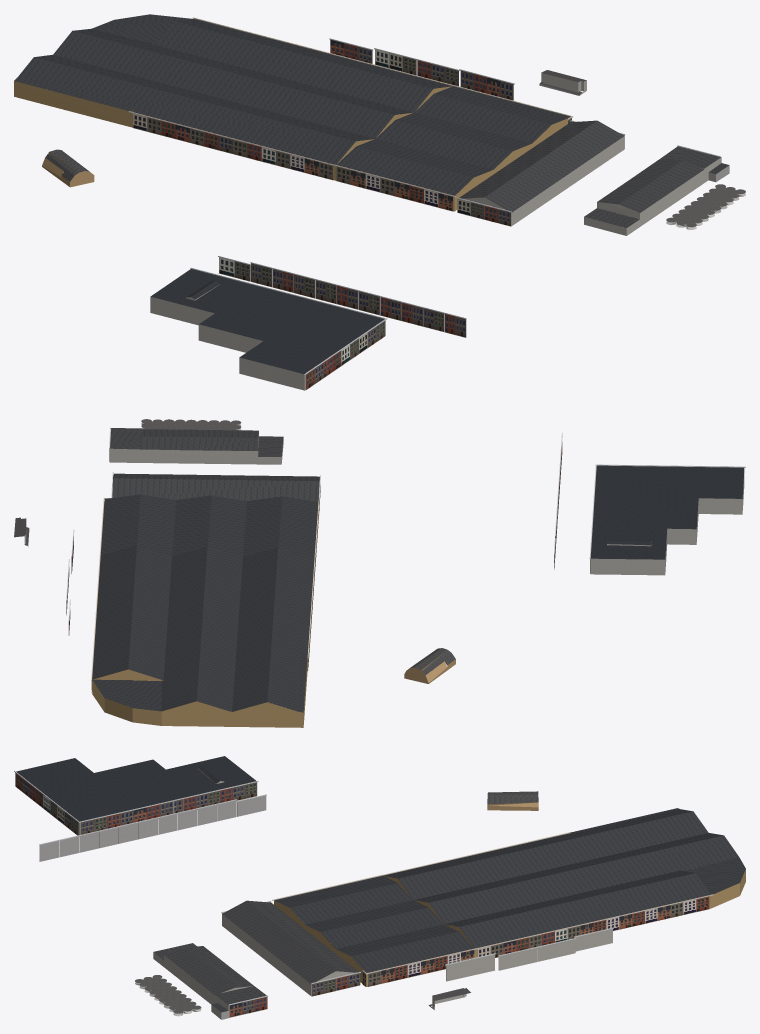
3 views of the same model, one above another, from view 1: azimuth 30°, elevation 25°; view 2: azimuth 150°, elevation 25°; view 3: azimuth 270°, elevation 25° (orthographic). The views are drawn at different scales.
Parts seen in each view (by area): view 1: bldg_6004321755_roof, bldg_6004581095_roof, bldg_6004321766_roof, bldg_6006778689_roof, bldg_6004321755, bldg_6004321755_facade1, bldg_6004581095, bldg_6004321755_facade0, bldg_6006778689, bldg_6004321766, bldg_6004581095_facade3, bldg_6000073201_roof (+5 smaller); view 2: bldg_6004321755_roof, bldg_6004581095_roof, bldg_6004321766_roof, bldg_6004321755, bldg_6006778689_roof, bldg_6004581095, bldg_6006778689, bldg_6000073201_roof, bldg_6000001047_roof, bldg_6000001047; view 3: bldg_6004321755_roof, bldg_6004581095_roof, bldg_6004321766_roof, bldg_6004321755_facade6, bldg_6006778689_roof, bldg_6004321755, bldg_6004321755_facade7, bldg_6004581095_facade2, bldg_6004321766, bldg_6000073201_roof, bldg_6004581095_facade0, bldg_6004581095_facade3 (+8 smaller).
Boxes of the visible parts, box(x1,y1,x2,y2) form: bldg_6004321755_roof: box(14, 14, 570, 195); bldg_6004581095_roof: box(151, 269, 384, 373); bldg_6004321766_roof: box(459, 120, 623, 212); bldg_6006778689_roof: box(584, 146, 720, 227); bldg_6004321755: box(14, 81, 568, 211); bldg_6004321755_facade1: box(128, 111, 336, 180); bldg_6004581095: box(150, 285, 385, 390); bldg_6004321755_facade0: box(334, 164, 455, 211); bldg_6006778689: box(584, 157, 721, 235); bldg_6004321766: box(462, 136, 624, 226); bldg_6004581095_facade3: box(304, 318, 387, 389); bldg_6000073201_roof: box(666, 184, 745, 227); bldg_6004321755_roof: box(92, 494, 318, 712); bldg_6004581095_roof: box(590, 465, 744, 559); bldg_6004321766_roof: box(112, 473, 319, 501); bldg_6004321755: box(92, 505, 318, 727); bldg_6006778689_roof: box(110, 428, 283, 456); bldg_6004581095: box(590, 473, 744, 575); bldg_6006778689: box(110, 428, 283, 464); bldg_6000073201_roof: box(141, 419, 241, 430); bldg_6000001047_roof: box(410, 648, 455, 675); bldg_6000001047: box(404, 651, 455, 683); bldg_6004321755_roof: box(274, 808, 745, 972); bldg_6004581095_roof: box(16, 756, 256, 821); bldg_6004321766_roof: box(222, 900, 358, 983); bldg_6004321755_facade6: box(473, 894, 713, 957); bldg_6006778689_roof: box(154, 943, 266, 1004); bldg_6004321755: box(274, 832, 745, 986); bldg_6004321755_facade7: box(365, 948, 476, 986); bldg_6004581095_facade2: box(78, 800, 175, 834); bldg_6004321766: box(222, 914, 355, 996); bldg_6000073201_roof: box(135, 975, 201, 1013); bldg_6004581095_facade0: box(183, 781, 258, 811); bldg_6004581095_facade3: box(14, 770, 79, 835).
Bounding box in the file's own units: 262 × 11.33 × 325.
19 materials, 13 textured.
